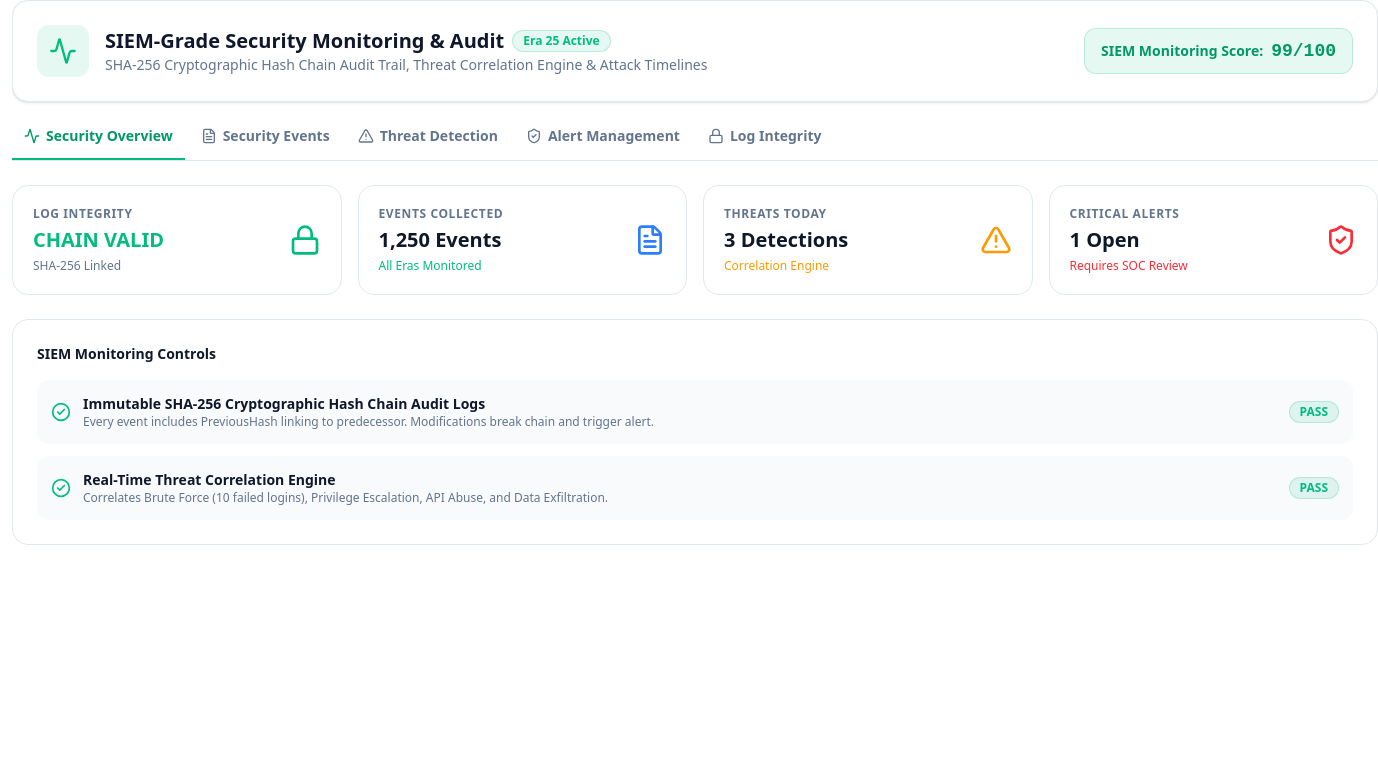
SIEMSecurityDashboard › clicking Threat Detection tab shows threat correlation rules
Click the button "Threat Detection": (428, 143) [346,126,510,160]
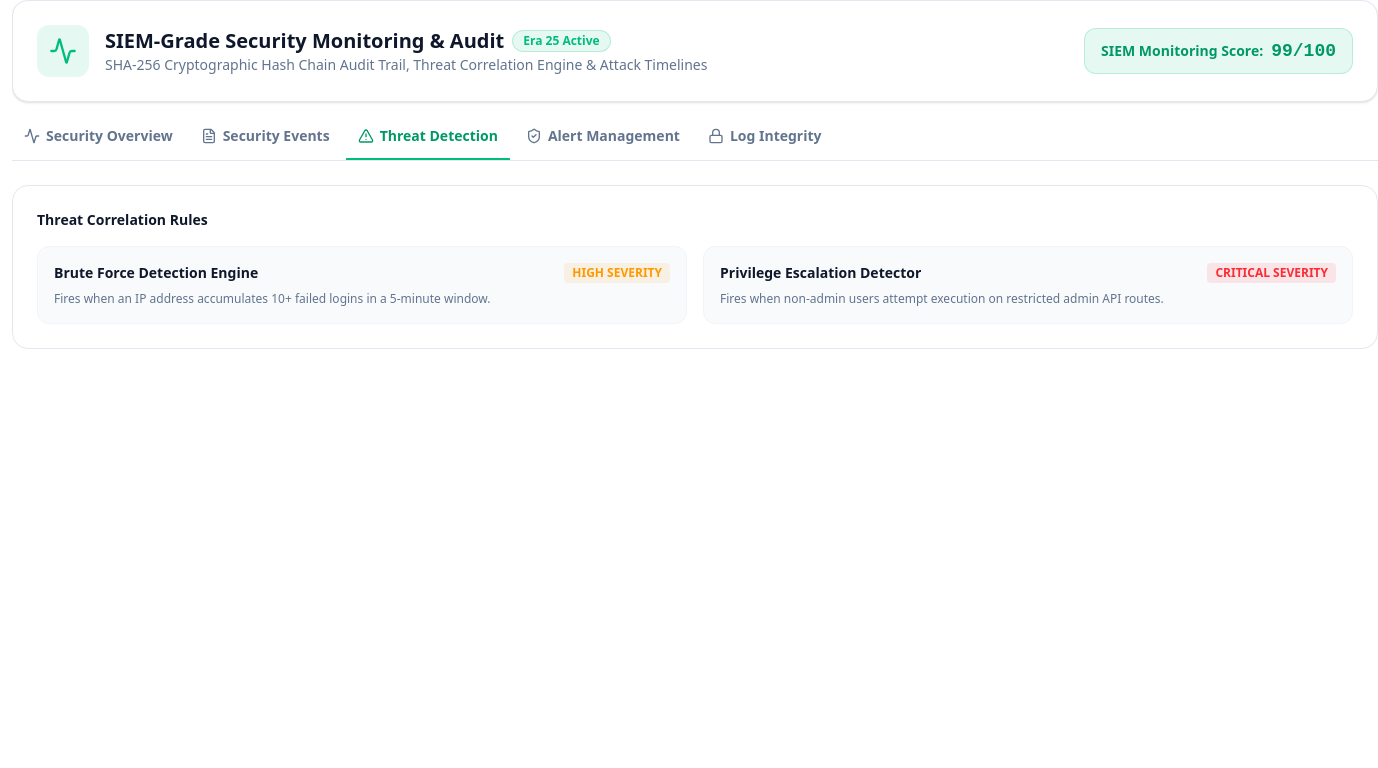
Result: the text "Brute Force Detection Engine" is shown at [54,263,258,283]
Result: the text "Privilege Escalation Detector" is shown at [720,263,921,283]
